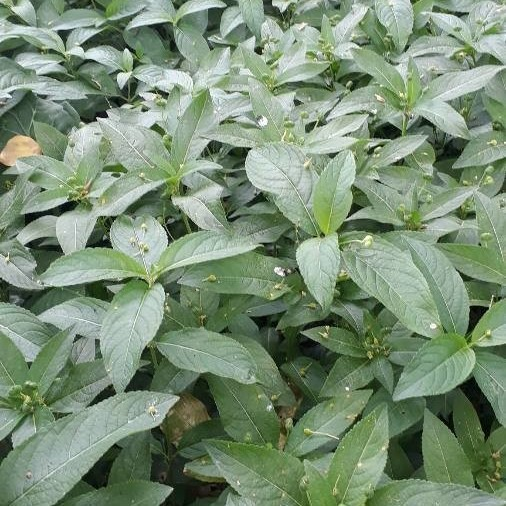obstacle: (42, 67, 482, 472)
